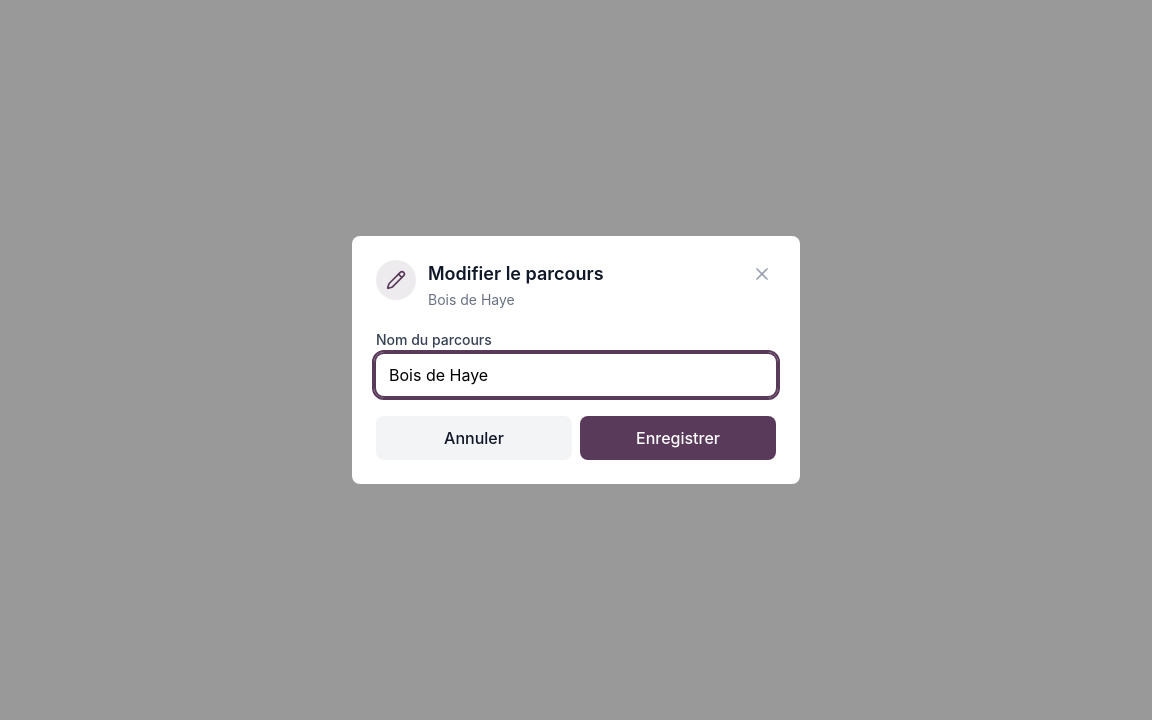
Test case: ParcoursRenameModal › affiche l’erreur et laisse la modale ouverte si l’enregistrement échoue
What coordinates should you click on to do the following:
click the button "Enregistrer"
I would click on:
 (678, 438)
Its box is [580, 416, 776, 460].
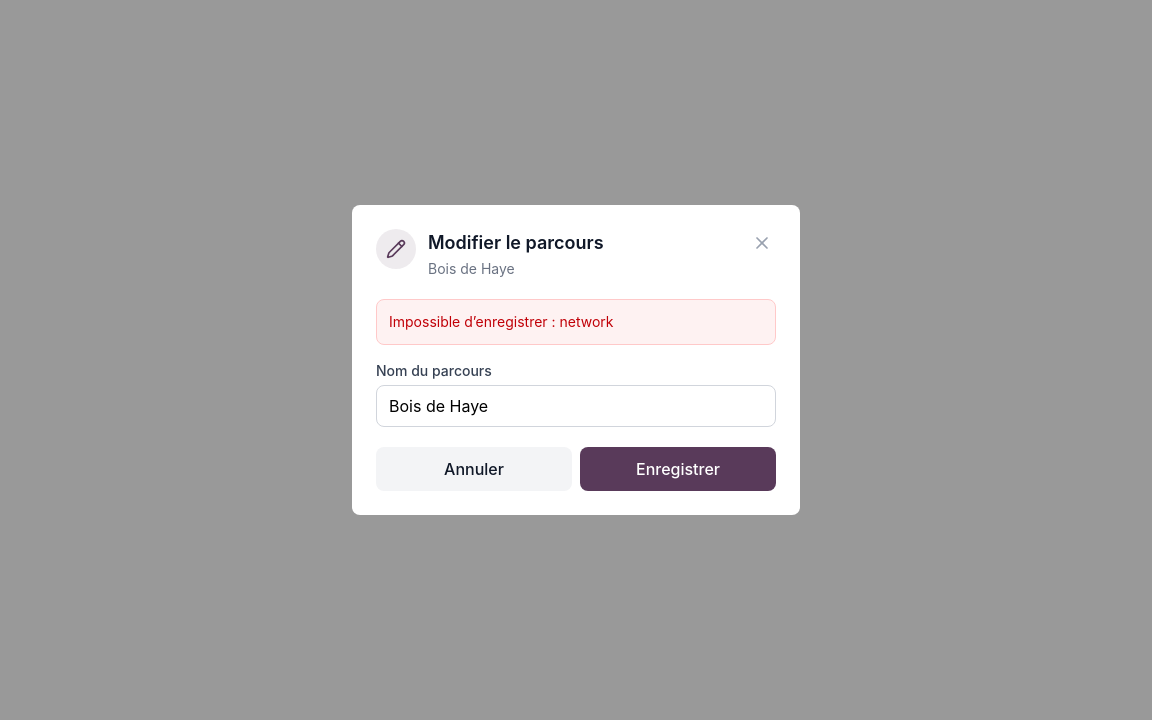
Expected: the button "Enregistrer" is enabled, [580, 447, 776, 491]
Now the message shows "network", box [560, 313, 614, 330]
